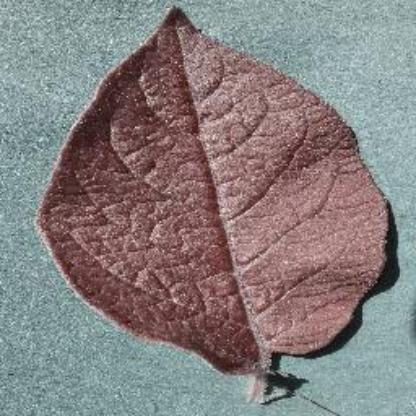Healthy-plant: (33, 5, 395, 379)
